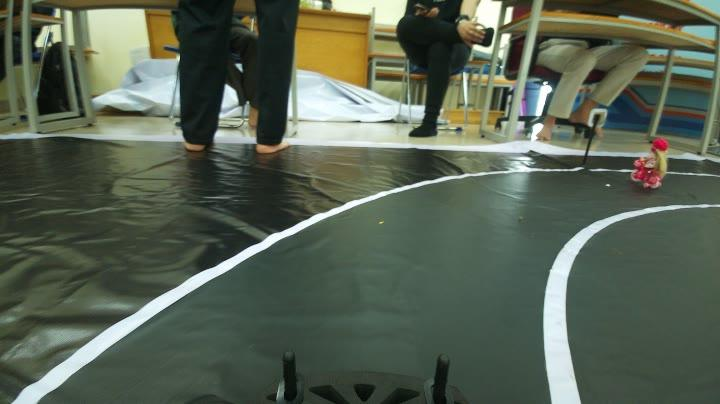pedestrian: (633, 134, 672, 192)
